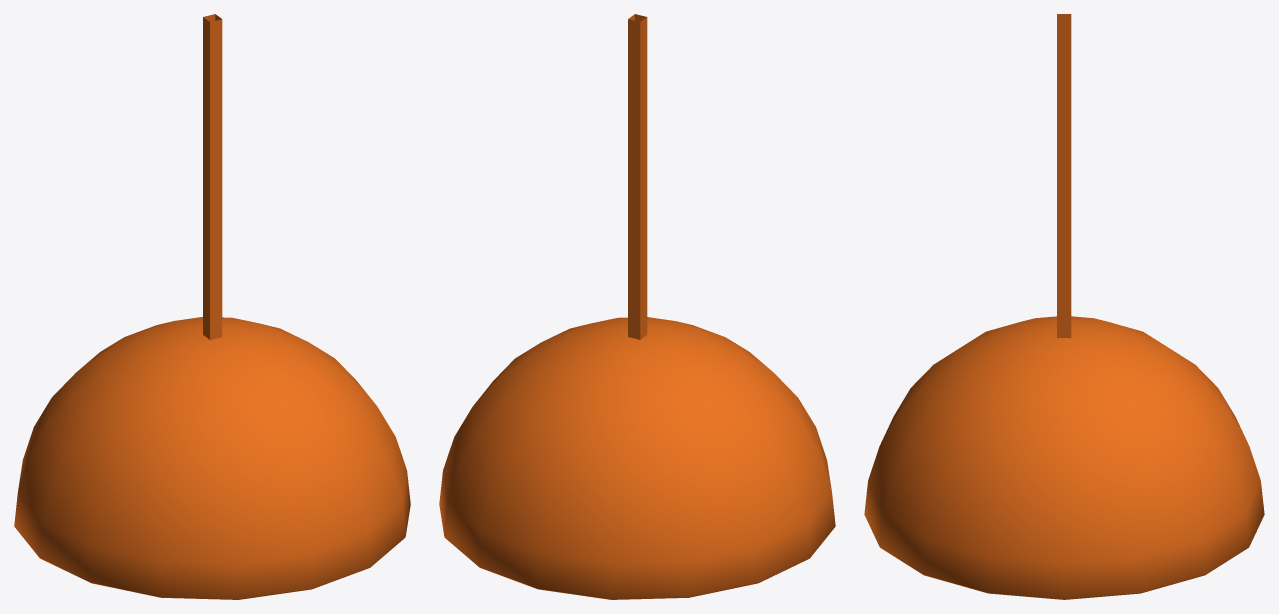
Rendered from RoofLamp.fbx.
The picture shows the model from 3 angles, left to right: view 1: azimuth 30°, elevation 25°; view 2: azimuth 150°, elevation 25°; view 3: azimuth 270°, elevation 25°; orthographic projection.
Visible parts, largest first — view 1: Sphere.002; view 2: Sphere.002; view 3: Sphere.002.
Boxes of the visible parts, box(x1,y1,x2,y2) form: Sphere.002: box(14, 14, 410, 599); Sphere.002: box(439, 14, 835, 599); Sphere.002: box(864, 14, 1264, 599).
Size of the model in its own units: 50.61 by 69.67 by 50.61.
